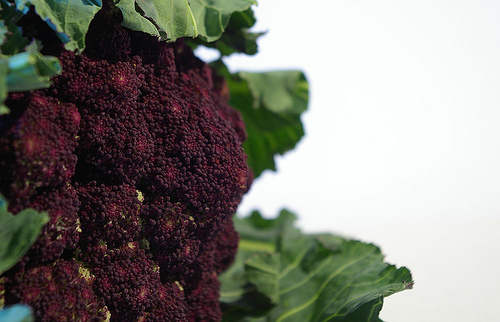broccoli: (2, 0, 414, 321)
